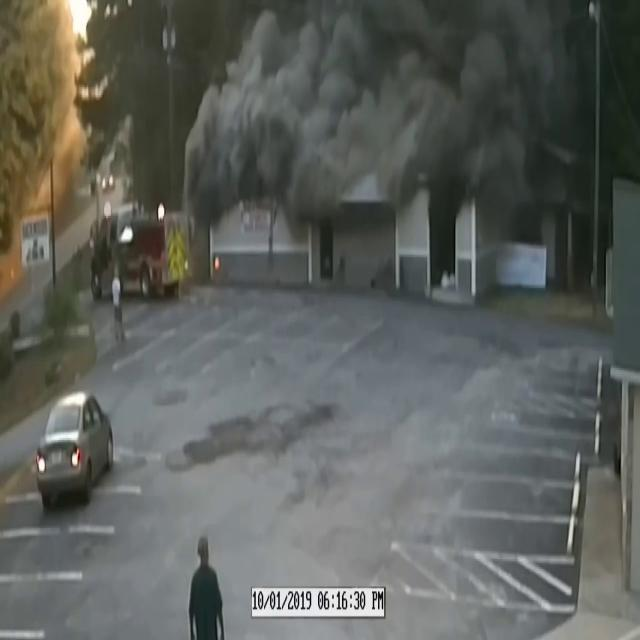Smoke: (153, 0, 590, 236)
